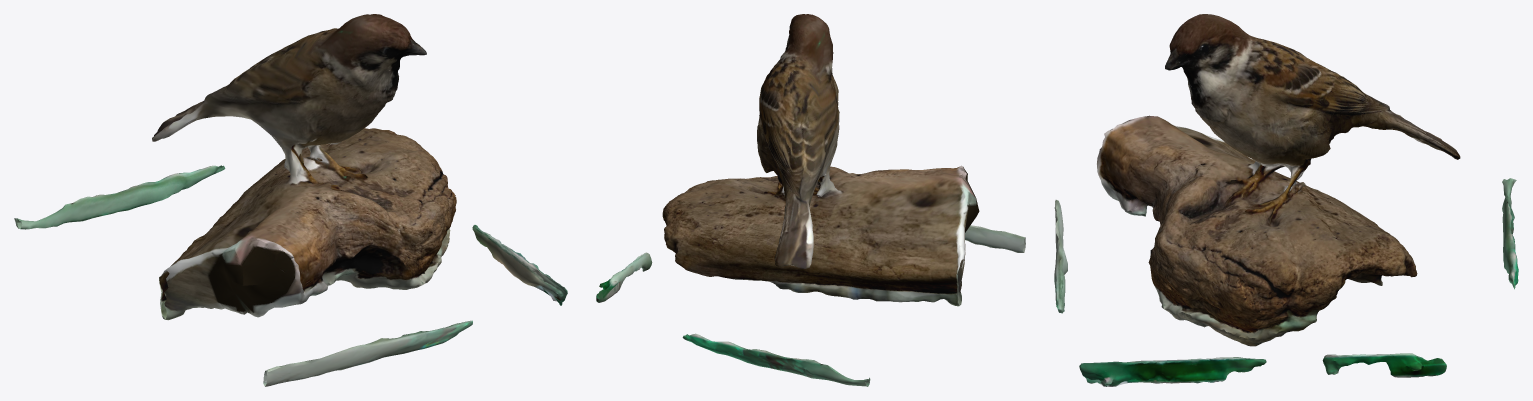
Rendered from sparrow.glb.
3 renders of one model, left to right at view 1: azimuth 30°, elevation 25°; view 2: azimuth 150°, elevation 25°; view 3: azimuth 270°, elevation 25°, orthographic. The views are drawn at different scales.
Visible parts, largest first — view 1: meshes[0]; view 2: meshes[0]; view 3: meshes[0].
Part boxes in pixels (x1,y1,x2,y2): meshes[0]: (14, 14, 567, 386); meshes[0]: (596, 14, 1025, 386); meshes[0]: (1054, 14, 1518, 386).
Size of the model in its own units: 0.00147 by 0.00112 by 0.00157.
Materials: 1 (1 with a texture image).
